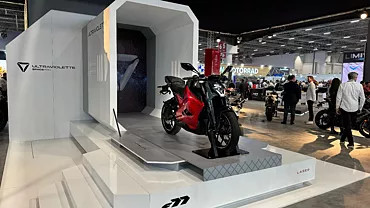bike: (157, 62, 240, 153)
